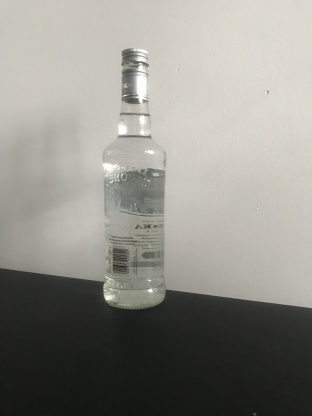nakretka: (119, 46, 150, 104)
